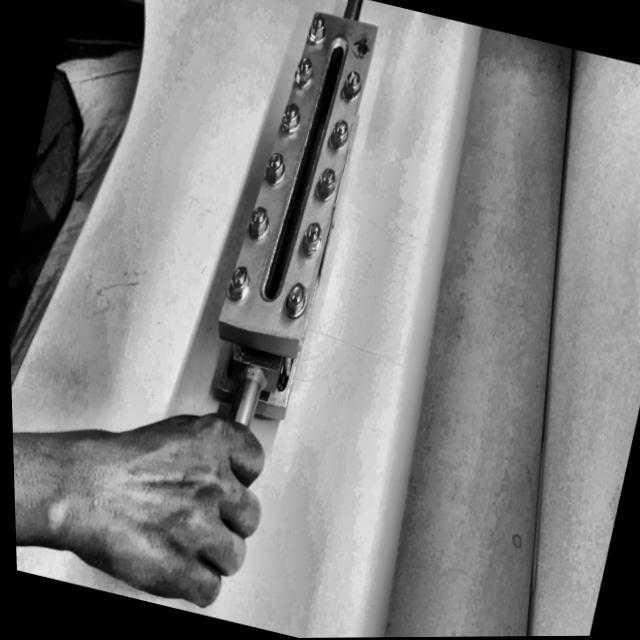ShuiWeiQi_11: (179, 0, 396, 447)
